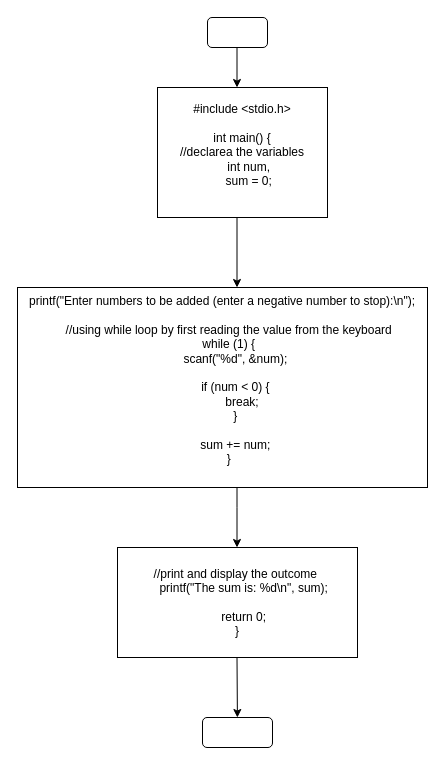
Some shapes in this 445 by 765 pixel diagram are drawn without their labels. The shapes that lost their labels are listed below. From the top down, each one's box as (x1, y1, x2, y2) in pixels, then its label:
(206, 16, 268, 48): start
(202, 716, 272, 748): end
